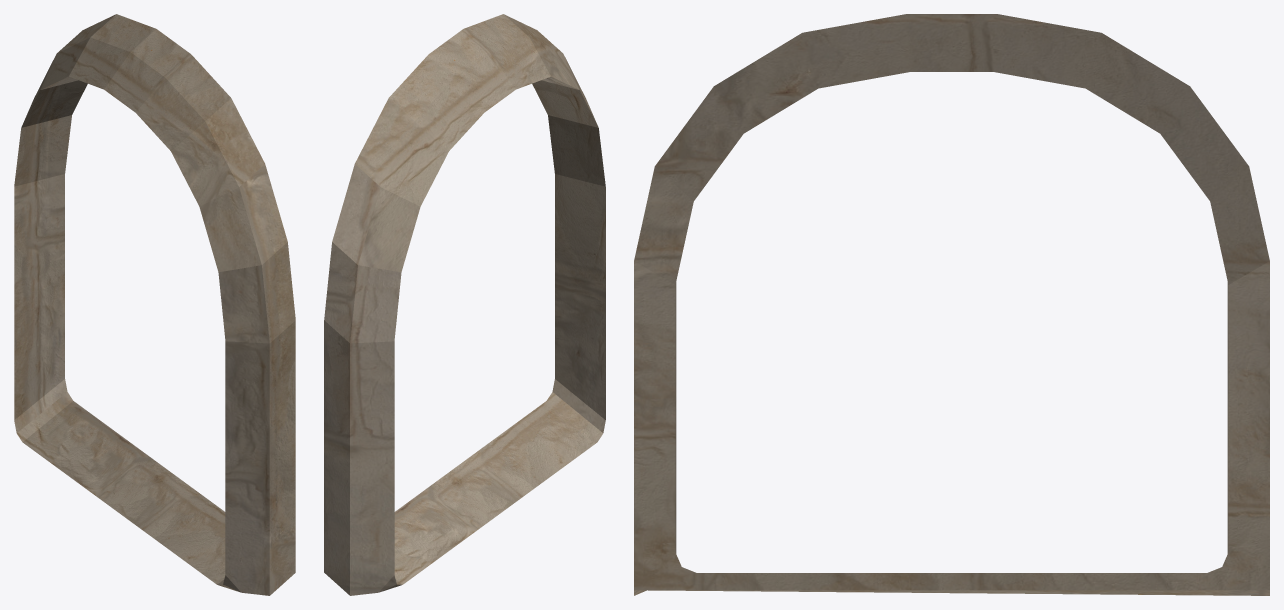
File: Arch.fbx
3 views of the same model, side by side, from view 1: azimuth 30°, elevation 25°; view 2: azimuth 150°, elevation 25°; view 3: azimuth 270°, elevation 25° (orthographic). The views are drawn at different scales.
Visible parts, largest first — view 1: Gate1; view 2: Gate1; view 3: Gate1.
Boxes of the visible parts, bbox=[...] form: Gate1: bbox=[14, 14, 295, 595]; Gate1: bbox=[324, 14, 605, 595]; Gate1: bbox=[634, 14, 1269, 595].
Bounding box in the file's own units: 62.4 × 505 × 487.
